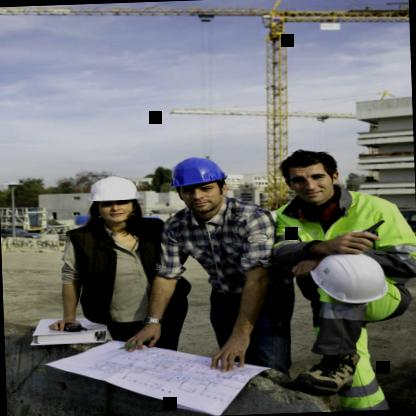head: (276, 143, 346, 215)
helmet: (168, 157, 229, 214), (86, 174, 140, 224)
